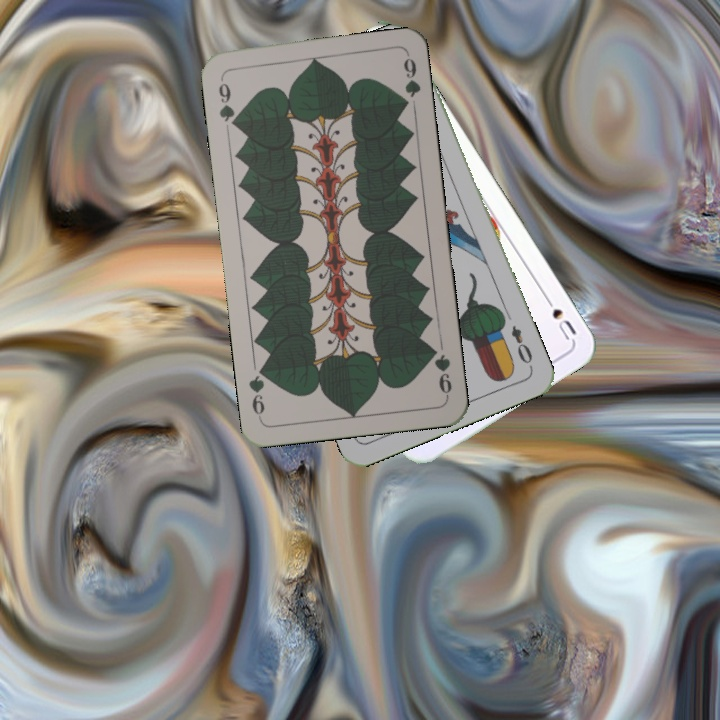EO: (507, 321, 536, 371)
G9: (426, 342, 455, 400), (214, 74, 241, 132)
SU: (538, 289, 579, 343)
